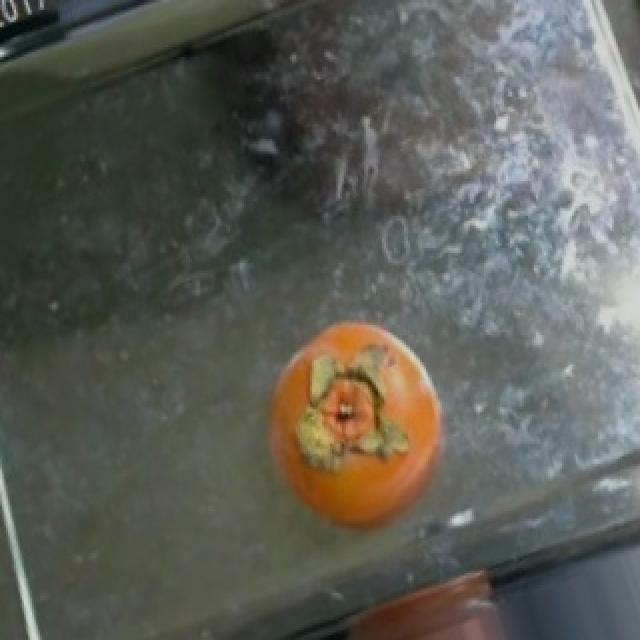Fruit: (238, 303, 478, 548), (300, 553, 540, 638)
